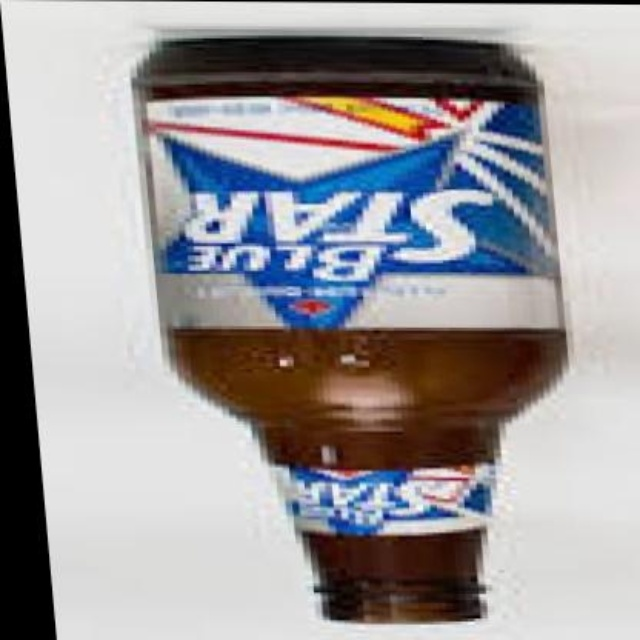trash: (135, 37, 565, 622)
